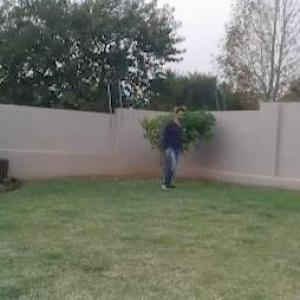follow: (158, 100, 188, 198)
